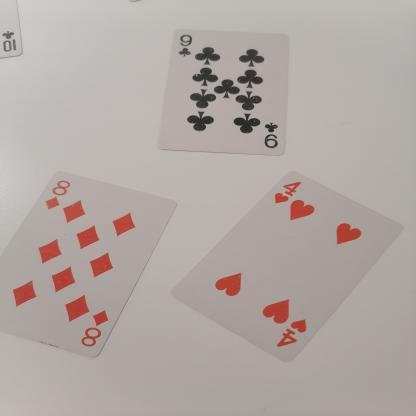4H: (266, 176, 310, 212)
8D: (41, 168, 74, 218)
9C: (170, 28, 202, 59)
